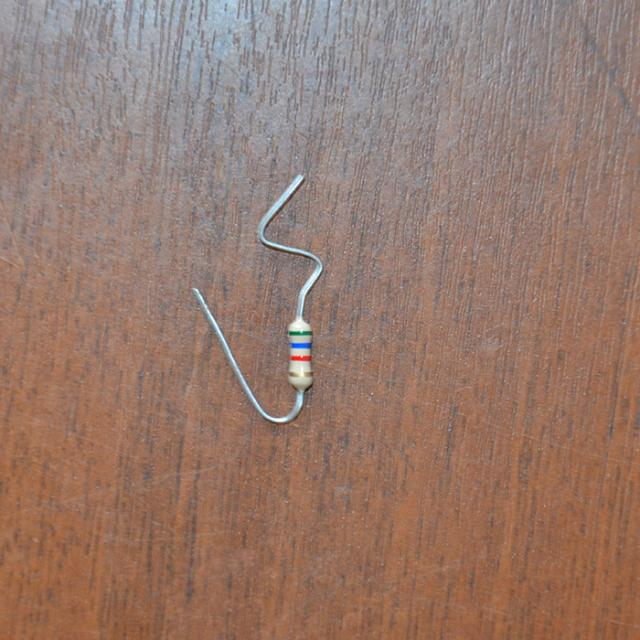blue: (292, 344, 309, 349)
gold: (289, 371, 312, 377)
green: (288, 330, 311, 337)
red: (292, 356, 309, 360)
resistor: (281, 320, 324, 393)
